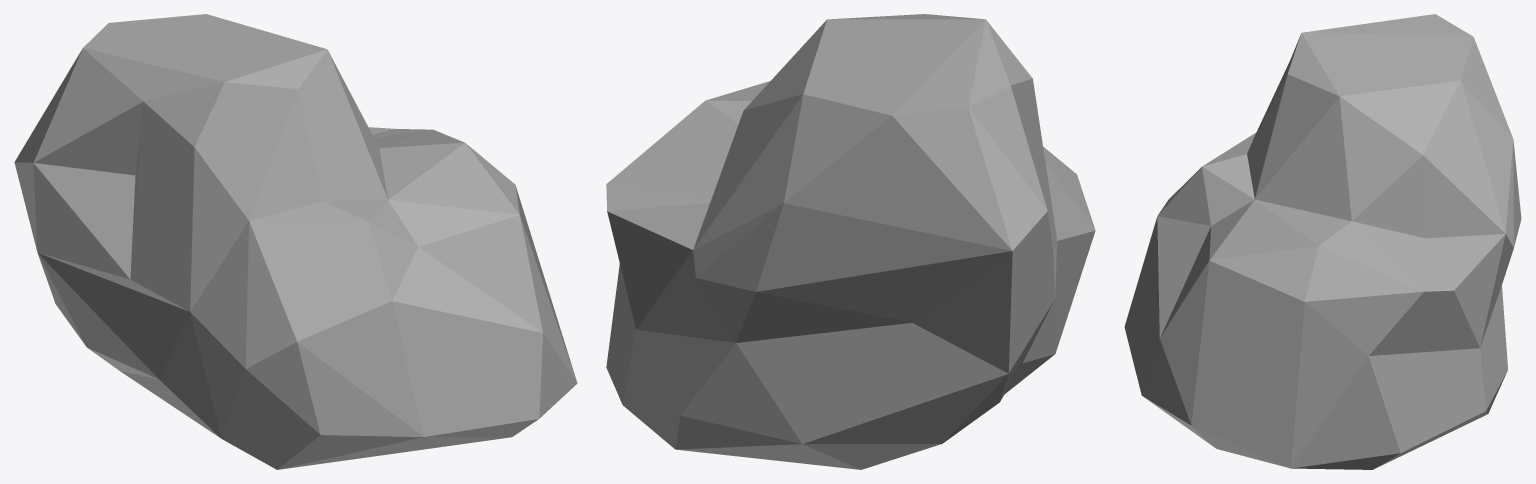
The model's file is Rock 1.fbx.
The picture shows the model from 3 angles, left to right: view 1: azimuth 30°, elevation 25°; view 2: azimuth 150°, elevation 25°; view 3: azimuth 270°, elevation 25°; orthographic projection. The views are drawn at different scales.
Parts seen in each view (by area): view 1: Rock 1; view 2: Rock 1; view 3: Rock 1.
Boxes of the visible parts, left/top/right/bottom form: Rock 1: left=14, top=14, right=577, bottom=469; Rock 1: left=606, top=14, right=1095, bottom=469; Rock 1: left=1124, top=14, right=1521, bottom=469.
Size of the model in its own units: 63.09 by 51.86 by 58.32.
